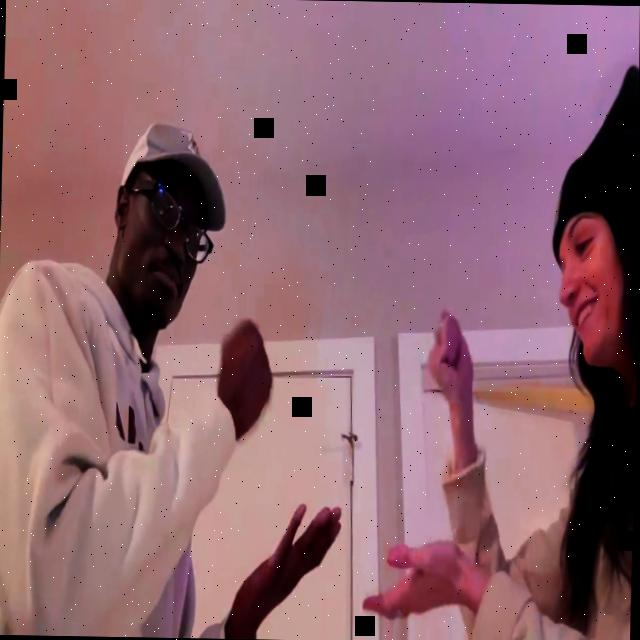Rock: (216, 316, 275, 434), (428, 308, 476, 408)
